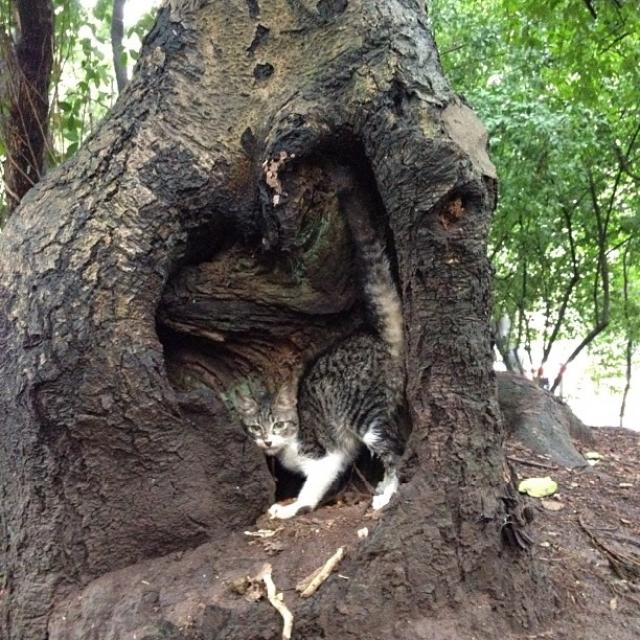cats: (230, 334, 412, 522)
